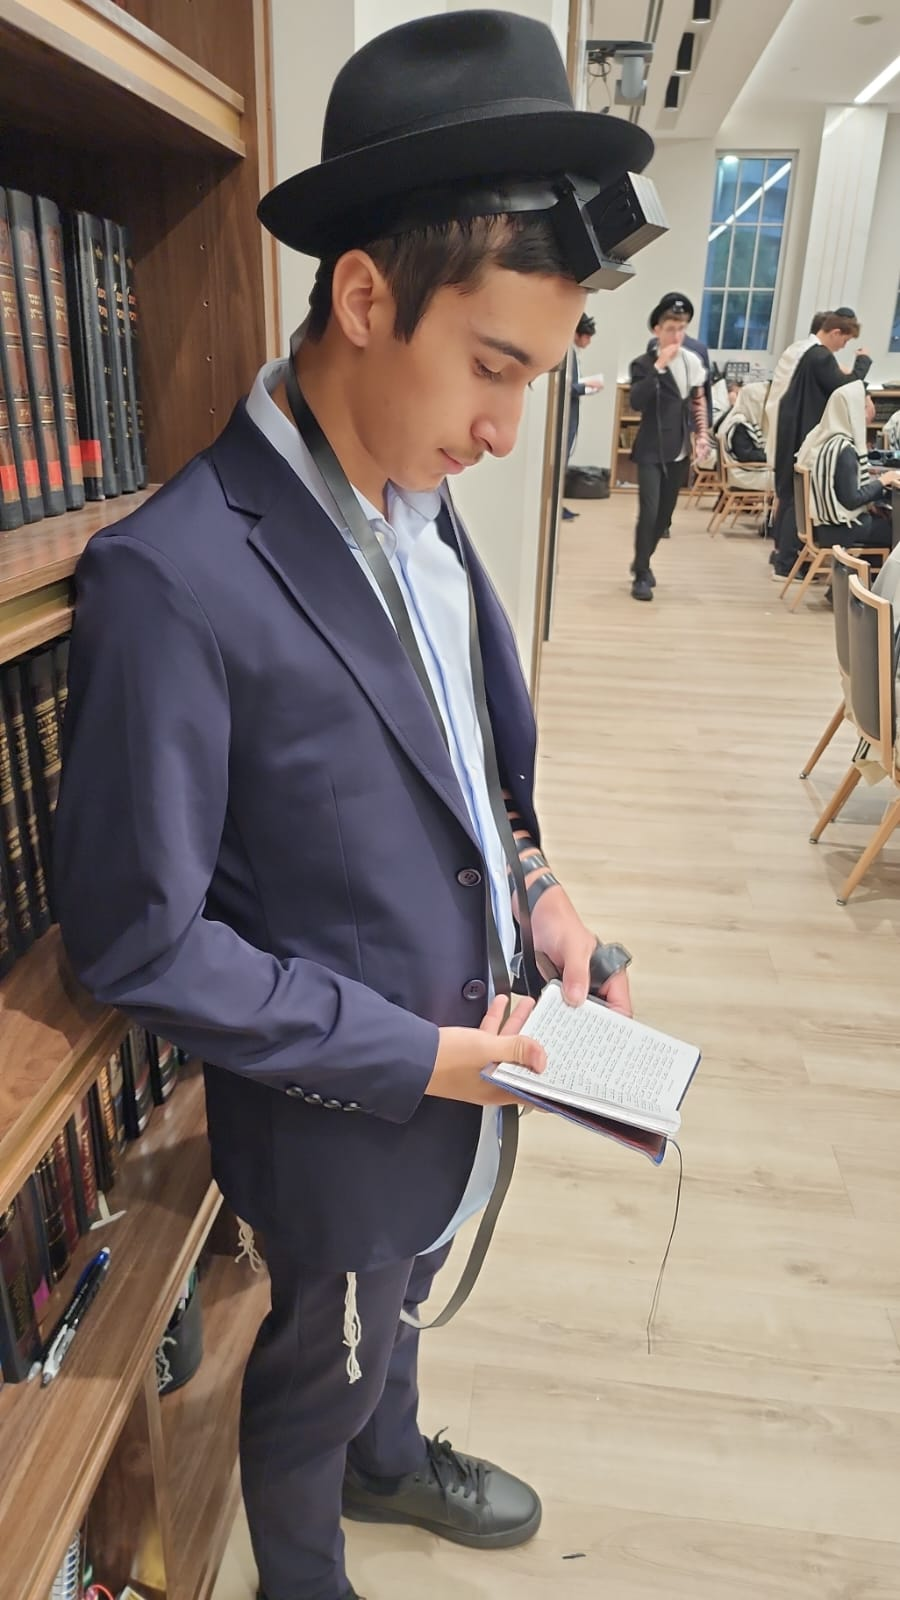tefillin: (564, 166, 667, 286)
